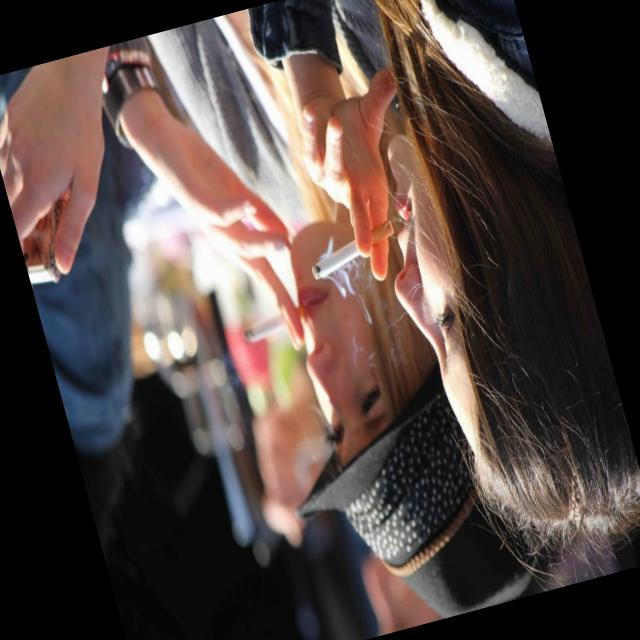smoke: (302, 212, 404, 282), (236, 296, 314, 346)
